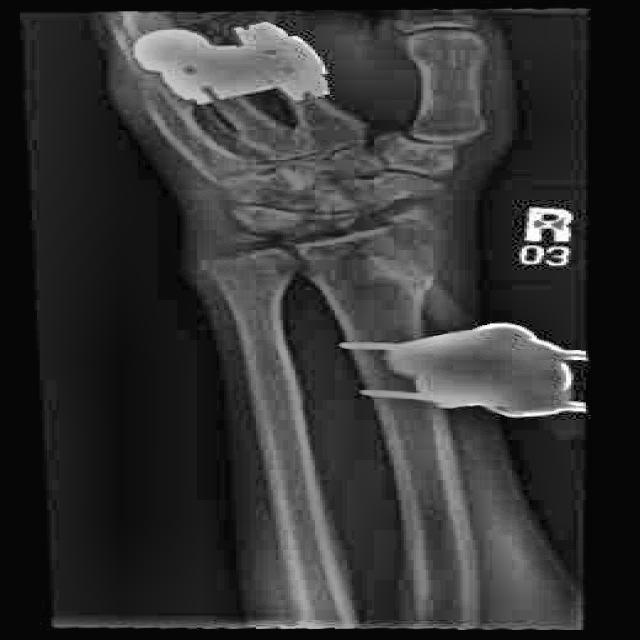fingers positive: (211, 195, 475, 297)
